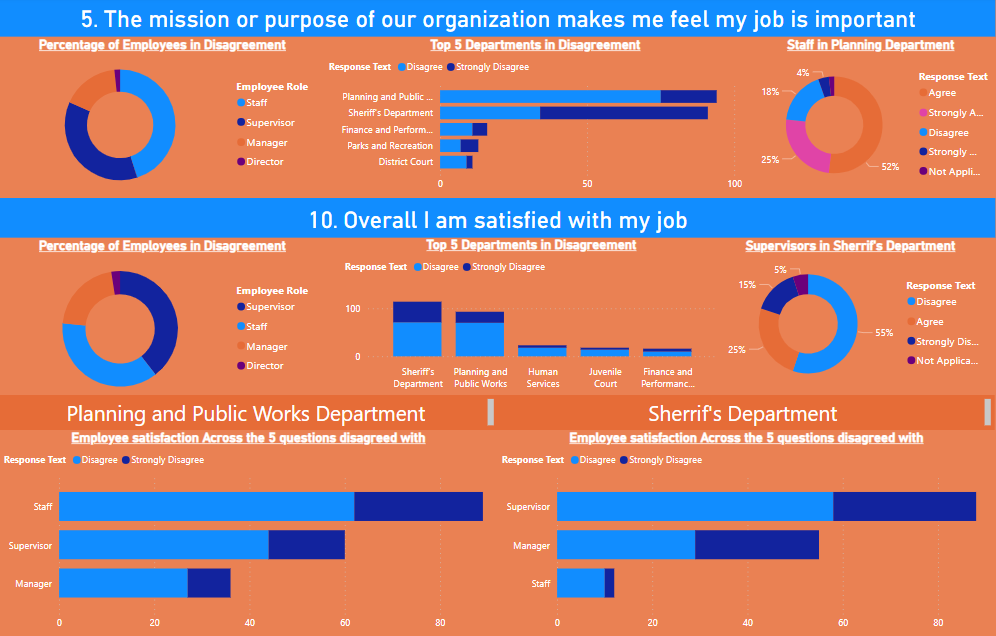

The page's visual inventory and layout, read from the dashboard file:
{"tool":"powerbi","page":{"name":"Page 3","canvas":[1280,823],"ordinal":2},"visuals":[{"type":"card","fields":{"Values":["Min(Employee Survey - HR Survey Reponses.Question)"]},"box":[0,258.5,1279.5,51.4],"z":0},{"type":"donutChart","title":"Percentage of Employees in Disagreement","fields":{"Y":["CountNonNull(Employee Survey - HR Survey Reponses.Response ID)"],"Category":["Employee Survey - HR Survey Reponses.Employee Category"]},"box":[0,309.9,417.9,214.8],"z":1000},{"type":"columnChart","title":"Top 5 Departments in Disagreement","fields":{"Category":["Employee Survey - HR Survey Reponses.Department"],"Y":["CountNonNull(Employee Survey - HR Survey Reponses.Response ID)"],"Series":["Employee Survey - HR Survey Reponses.Response Text"]},"box":[438.5,308.6,489.9,204.5],"z":2000},{"type":"card","fields":{"Values":["Min(Employee Survey - HR Survey Reponses.Question)"]},"box":[0,0,1279.5,51.4],"z":3000},{"type":"donutChart","title":"Percentage of Employees in Disagreement","fields":{"Category":["Employee Survey - HR Survey Reponses.Employee Role"],"Y":["CountNonNull(Employee Survey - HR Survey Reponses.Response ID)"]},"box":[0,51.4,417.9,207],"z":4000},{"type":"barChart","title":"Top 5 Departments in Disagreement","fields":{"Category":["Employee Survey - HR Survey Reponses.Department"],"Y":["CountNonNull(Employee Survey - HR Survey Reponses.Response ID)"],"Series":["Employee Survey - HR Survey Reponses.Response Text"]},"box":[417.9,51.4,541.4,207],"z":5000},{"type":"barChart","title":"Employee satisfaction  Across the 5 questions disagreed with","fields":{"Category":["Employee Survey - HR Survey Reponses.Employee Role"],"Y":["CountNonNull(Employee Survey - HR Survey Reponses.Response ID)"],"Series":["Employee Survey - HR Survey Reponses.Response Text"]},"box":[0,556.8,639.1,266.2],"z":6000},{"type":"textbox","box":[639.1,511.8,640.4,45],"z":7000},{"type":"textbox","box":[0,511.8,640.4,45],"z":8000},{"type":"barChart","title":"Employee satisfaction  Across the 5 questions disagreed with","fields":{"Series":["Employee Survey - HR Survey Reponses.Response Text"],"Y":["CountNonNull(Employee Survey - HR Survey Reponses.Response ID)"],"Category":["Employee Survey - HR Survey Reponses.Employee Role"]},"box":[640.4,556.8,639.1,266.2],"z":9000},{"type":"donutChart","title":"Supervisors in Sherrif''s Department","fields":{"Category":["Employee Survey - HR Survey Reponses.Response Text"],"Y":["CountNonNull(Employee Survey - HR Survey Reponses.Response ID)"]},"box":[907.9,309.9,371.6,201.9],"z":10000},{"type":"donutChart","title":"Staff in Planning Department","fields":{"Category":["Employee Survey - HR Survey Reponses.Response Text"],"Y":["CountNonNull(Employee Survey - HR Survey Reponses.Response ID)"]},"box":[959,51,321,207],"z":11000}]}

Visuals, with their boxes in screenshot pixels (x1, y1, x2, y2), scaled from the page's 1280x823 canvas onto the 996x636 screenshot:
card - Min(Employee Survey - HR Survey Reponses.Question): (0, 200, 995, 239)
"Percentage of Employees in Disagreement" donutChart: (0, 239, 325, 405)
"Top 5 Departments in Disagreement" columnChart: (341, 238, 722, 397)
card - Min(Employee Survey - HR Survey Reponses.Question): (0, 0, 995, 40)
"Percentage of Employees in Disagreement" donutChart: (0, 40, 325, 200)
"Top 5 Departments in Disagreement" barChart: (325, 40, 746, 200)
"Employee satisfaction  Across the 5 questions disagreed with" barChart: (0, 430, 497, 635)
textbox: (497, 396, 995, 430)
textbox: (0, 396, 498, 430)
"Employee satisfaction  Across the 5 questions disagreed with" barChart: (498, 430, 995, 635)
"Supervisors in Sherrif''s Department" donutChart: (706, 239, 995, 396)
"Staff in Planning Department" donutChart: (746, 39, 995, 199)
